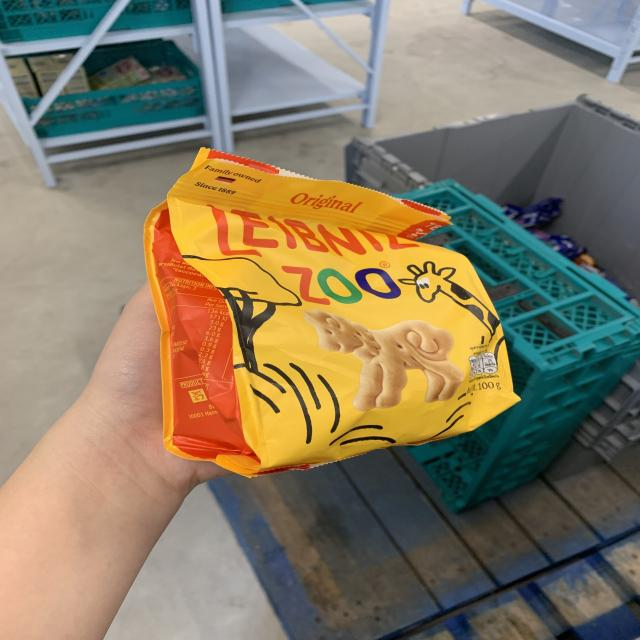object_name: (172, 194, 496, 436)
